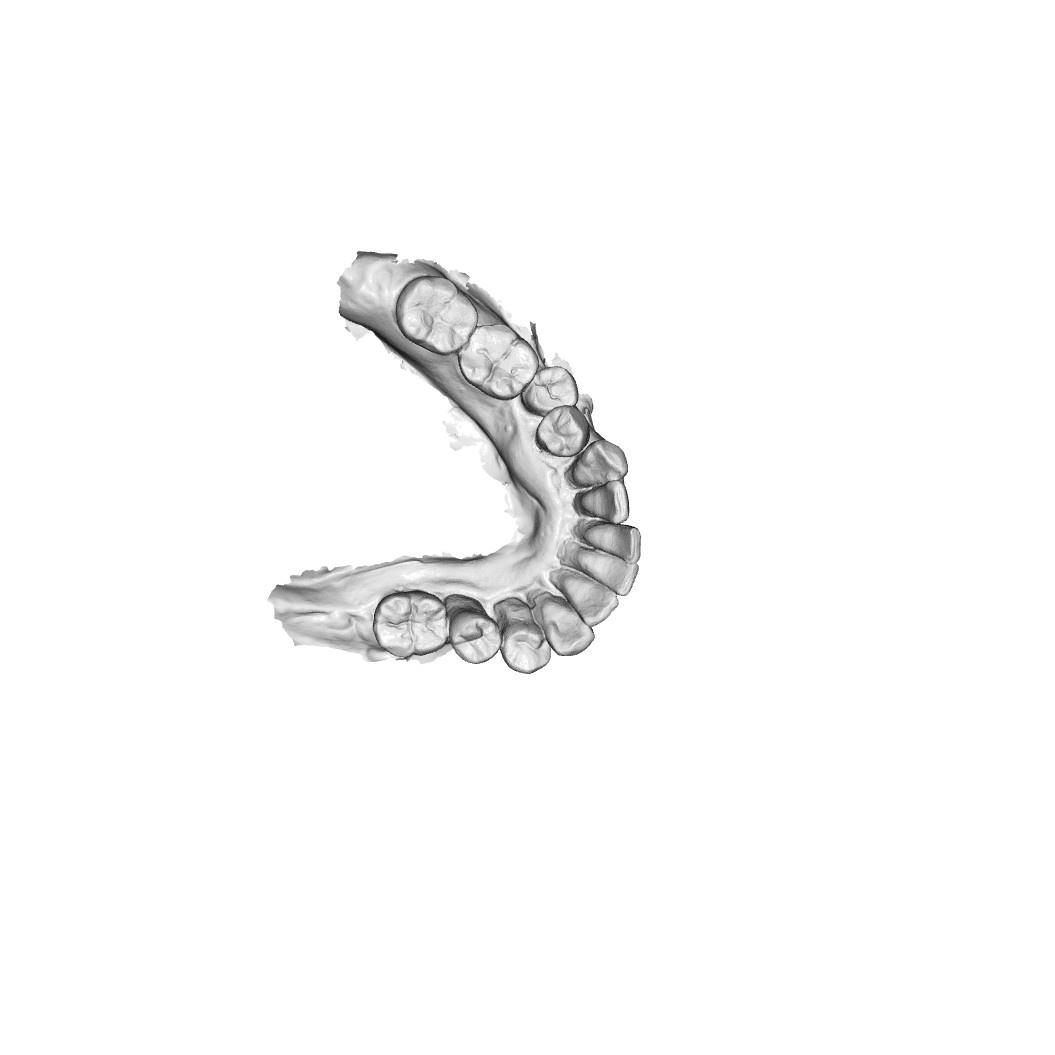canine: (536, 587, 593, 656), (569, 438, 629, 488)
incisor: (560, 565, 618, 629), (573, 550, 637, 598), (575, 478, 631, 525), (579, 518, 639, 559)
molar: (394, 275, 479, 356), (459, 322, 537, 401), (374, 588, 452, 662)
premolar: (446, 605, 502, 665), (522, 363, 577, 417), (534, 404, 586, 461), (506, 618, 550, 675)
